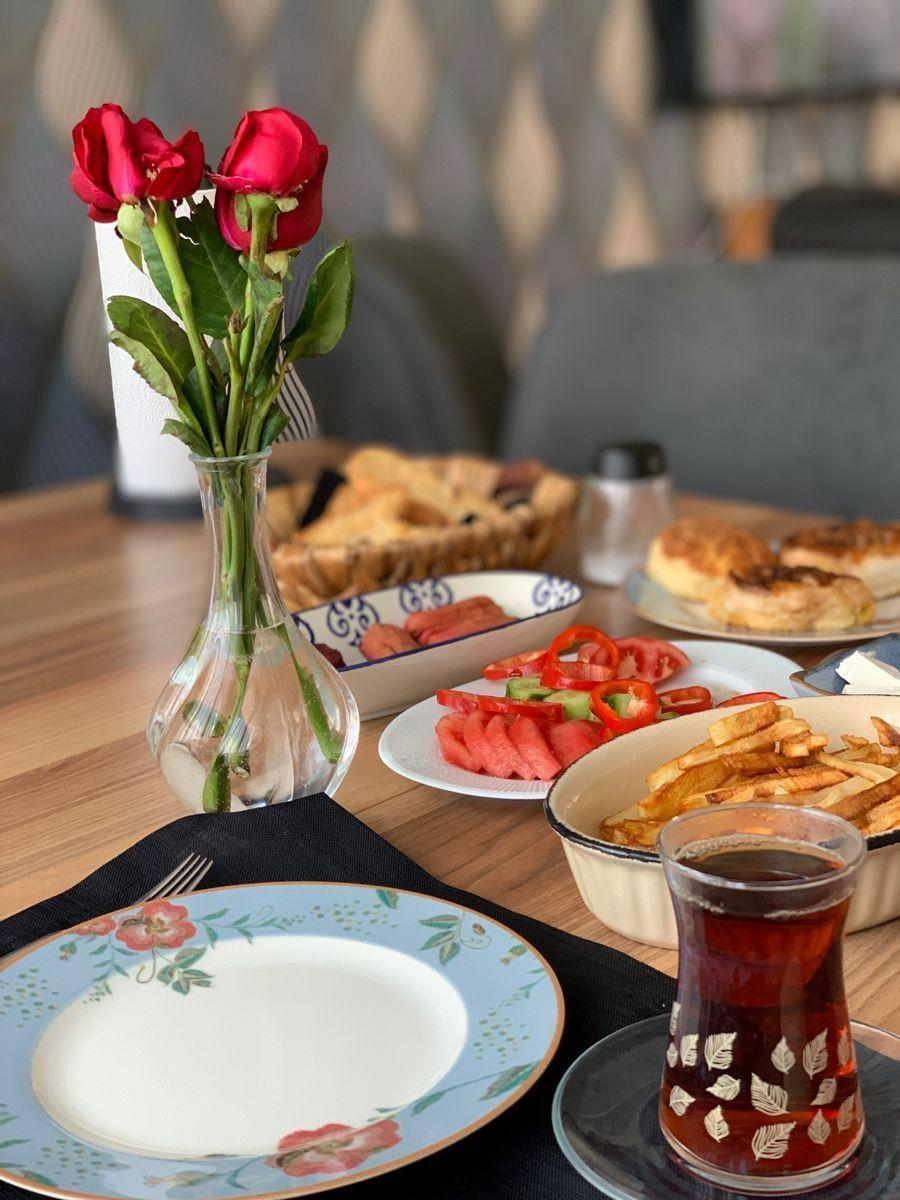glass-normal: (652, 798, 871, 1197)
